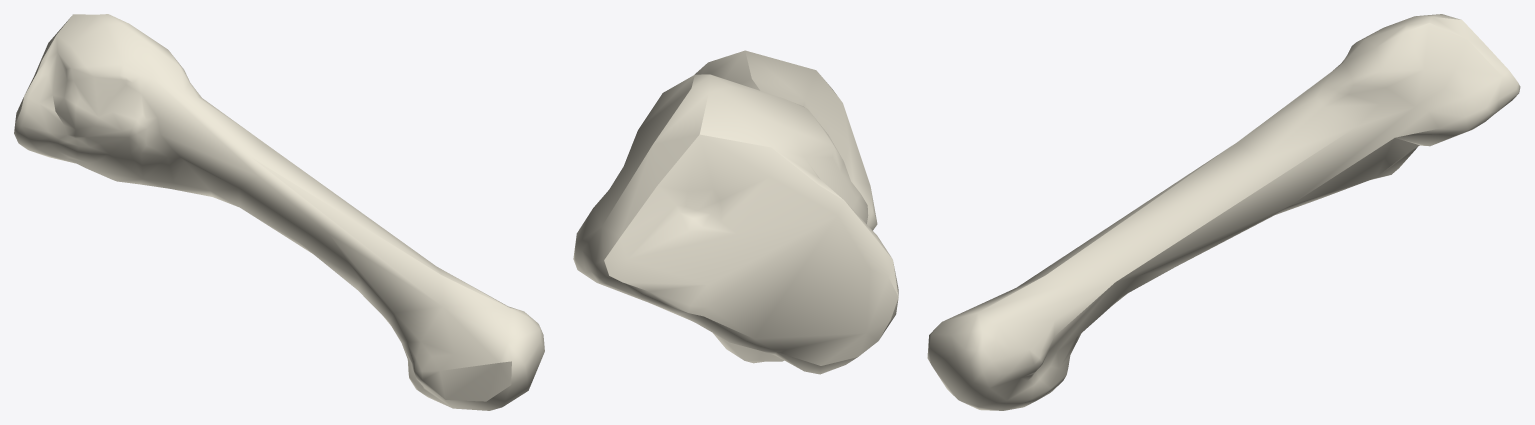
File: fma24514_fj3250.glb
3 renders of one model, left to right at view 1: azimuth 30°, elevation 25°; view 2: azimuth 150°, elevation 25°; view 3: azimuth 270°, elevation 25°, orthographic. The views are drawn at different scales.
Parts seen in each view (by area): view 1: FMA24514_FJ3250; view 2: FMA24514_FJ3250; view 3: FMA24514_FJ3250.
Boxes of the visible parts, x1,y1,x2,y2 form: FMA24514_FJ3250: (14,14,544,410); FMA24514_FJ3250: (573,50,898,374); FMA24514_FJ3250: (927,14,1520,410).
Size of the model in its own units: 0.0409 by 0.0354 by 0.0625.
